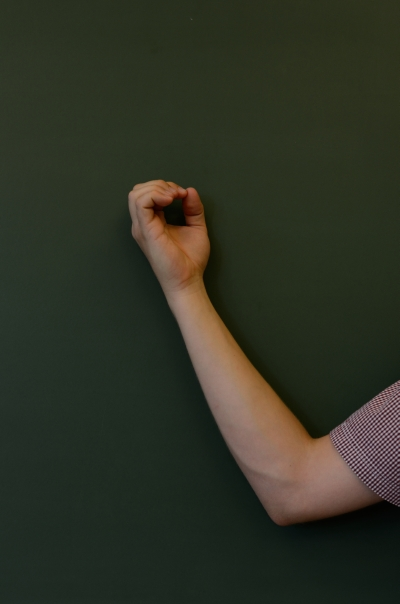hand: (123, 176, 218, 285)
